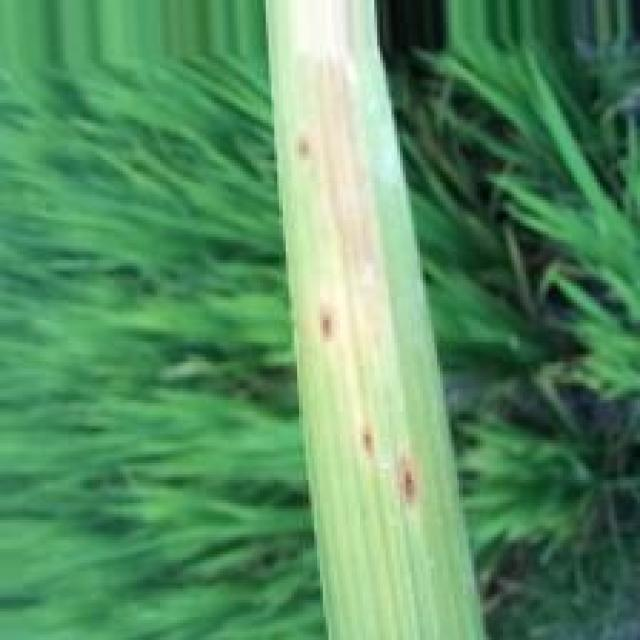Brown_Spot: (390, 448, 421, 517), (358, 408, 380, 470), (316, 299, 336, 347), (294, 132, 310, 162)
